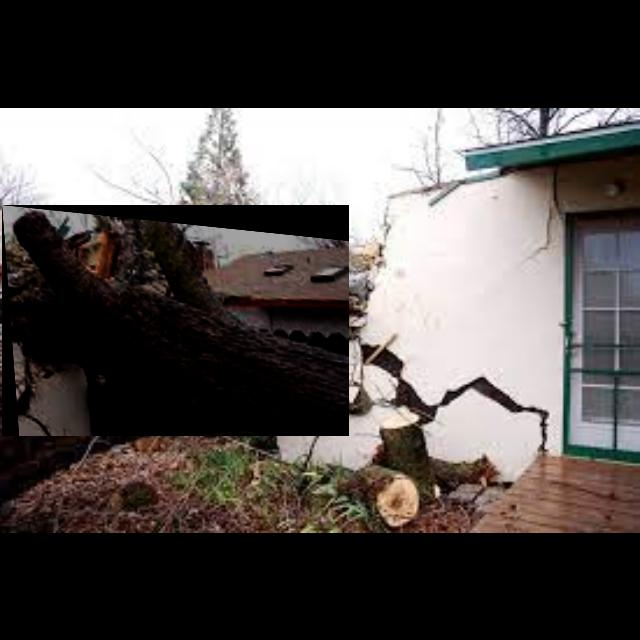Fallen Tree: (2, 205, 350, 437)
